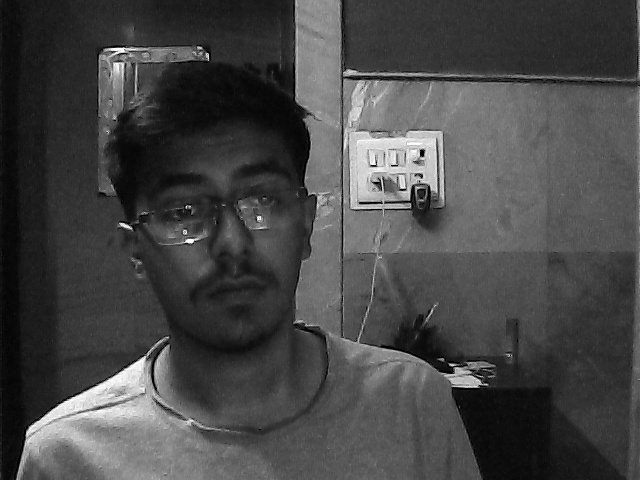nomask: (131, 126, 321, 349)
